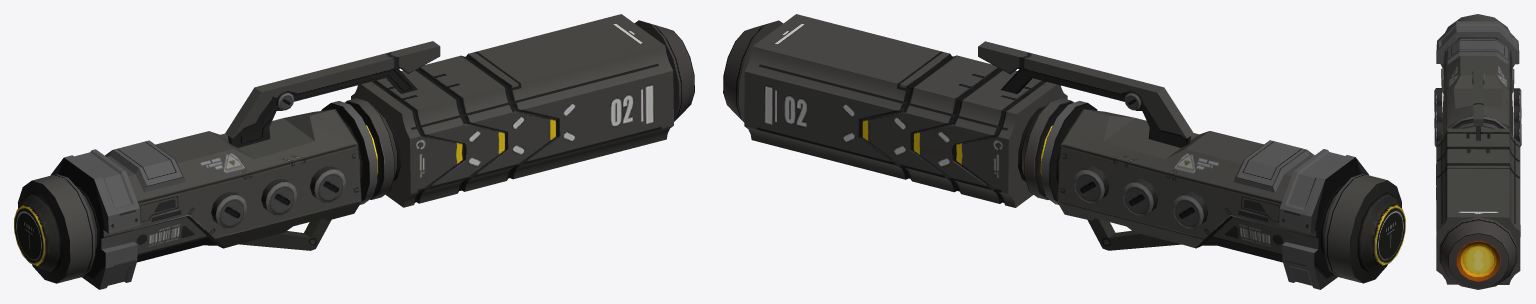
Rendered from E2SleeveMd050011.fbx.
3 renders of one model, left to right at view 1: azimuth 30°, elevation 25°; view 2: azimuth 150°, elevation 25°; view 3: azimuth 270°, elevation 25°, orthographic. The views are drawn at different scales.
Parts seen in each view (by area): view 1: E2SleeveMd050011; view 2: E2SleeveMd050011; view 3: E2SleeveMd050011.
Part boxes in pixels (x1,y1,x2,y2): E2SleeveMd050011: (14, 14, 694, 289); E2SleeveMd050011: (723, 14, 1405, 289); E2SleeveMd050011: (1434, 14, 1521, 289).
Size of the model in its own units: 1.37 by 0.3482 by 0.2235.
1 material, 1 textured.
